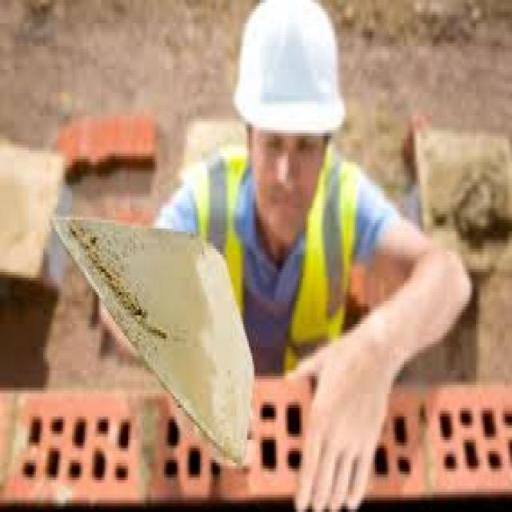helmet: (228, 3, 350, 144)
vest: (189, 156, 375, 376)
